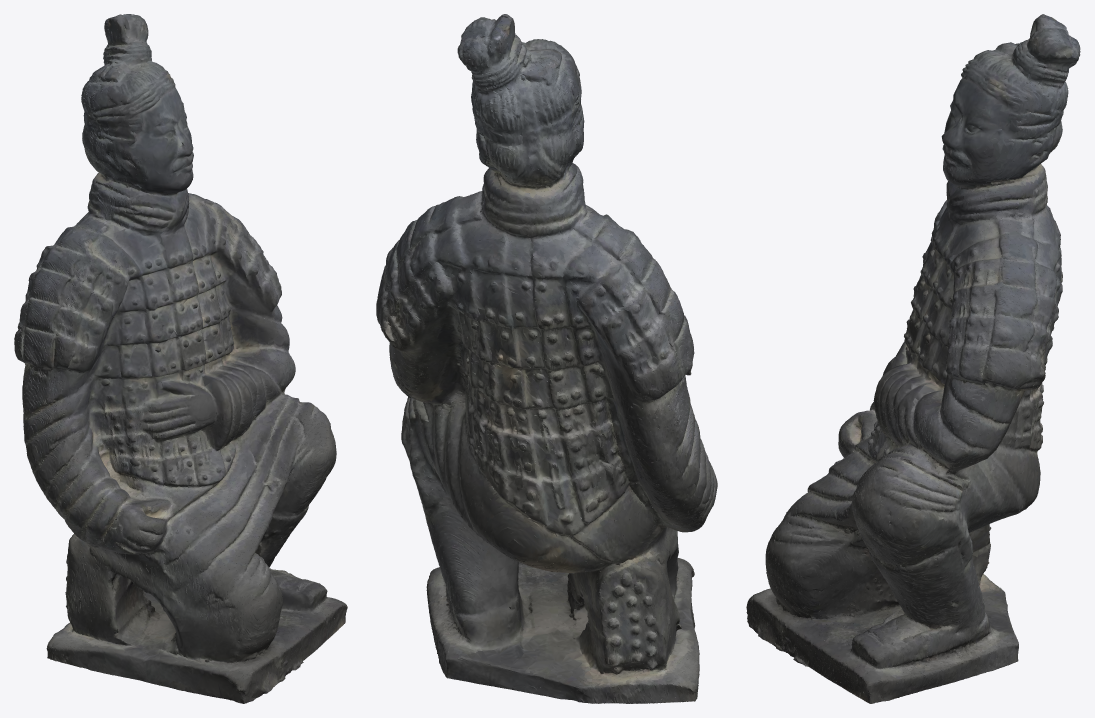
File: qin-soldier.glb
3 renders of one model, left to right at view 1: azimuth 30°, elevation 25°; view 2: azimuth 150°, elevation 25°; view 3: azimuth 270°, elevation 25°, orthographic. The views are drawn at different scales.
Visible parts, largest first — view 1: Object_14, Object_6, Object_13, Object_8, Object_3, Object_10, Object_12, Object_5, Object_4, Object_9, Object_7, Object_15 (+2 smaller); view 2: Object_9, Object_10, Object_12, Object_15, Object_8, Object_5, Object_14, Object_3, Object_7, Object_11, Object_4, Object_13 (+2 smaller); view 3: Object_7, Object_4, Object_11, Object_9, Object_6, Object_13, Object_14, Object_8, Object_5, Object_3, Object_10, Object_12 (+2 smaller).
Part boxes in pixels (<box>): Object_14: <box>15,65,321,670</box>; Object_6: <box>20,24,335,700</box>; Object_13: <box>18,14,336,685</box>; Object_8: <box>17,18,346,703</box>; Object_3: <box>14,62,344,703</box>; Object_10: <box>25,19,345,689</box>; Object_12: <box>14,19,314,684</box>; Object_5: <box>20,63,326,692</box>; Object_4: <box>32,66,341,664</box>; Object_9: <box>20,16,345,702</box>; Object_7: <box>22,19,347,700</box>; Object_15: <box>14,23,346,696</box>; Object_9: <box>378,38,717,703</box>; Object_10: <box>386,16,716,703</box>; Object_12: <box>376,19,716,703</box>; Object_15: <box>382,31,697,703</box>; Object_8: <box>378,15,716,701</box>; Object_5: <box>383,34,716,703</box>; Object_14: <box>382,39,717,701</box>; Object_3: <box>381,23,699,703</box>; Object_7: <box>376,24,714,703</box>; Object_11: <box>378,16,716,703</box>; Object_4: <box>376,45,697,699</box>; Object_13: <box>382,14,697,697</box>; Object_7: <box>749,24,1066,703</box>; Object_4: <box>765,82,1062,699</box>; Object_11: <box>764,15,1080,691</box>; Object_9: <box>751,23,1079,701</box>; Object_6: <box>747,40,1063,695</box>; Object_13: <box>757,14,1080,680</box>; Object_14: <box>785,43,1062,693</box>; Object_8: <box>749,16,1078,703</box>; Object_5: <box>749,41,1071,683</box>; Object_3: <box>746,17,1078,703</box>; Object_10: <box>749,16,1080,699</box>; Object_12: <box>755,19,1067,672</box>.
Size of the model in its own units: 25.08 by 52 by 25.58.
2 materials, 2 textured.
